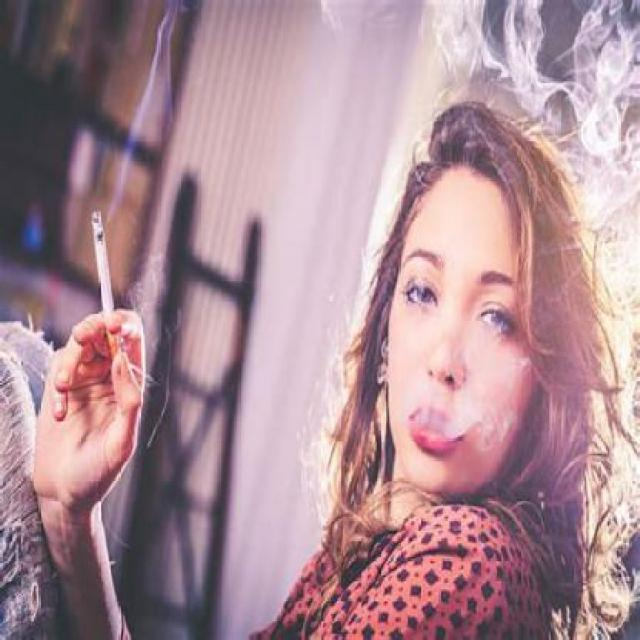cigarette: (88, 202, 128, 382)
